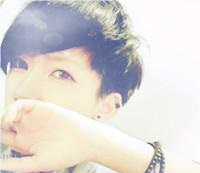face: (1, 37, 101, 150)
